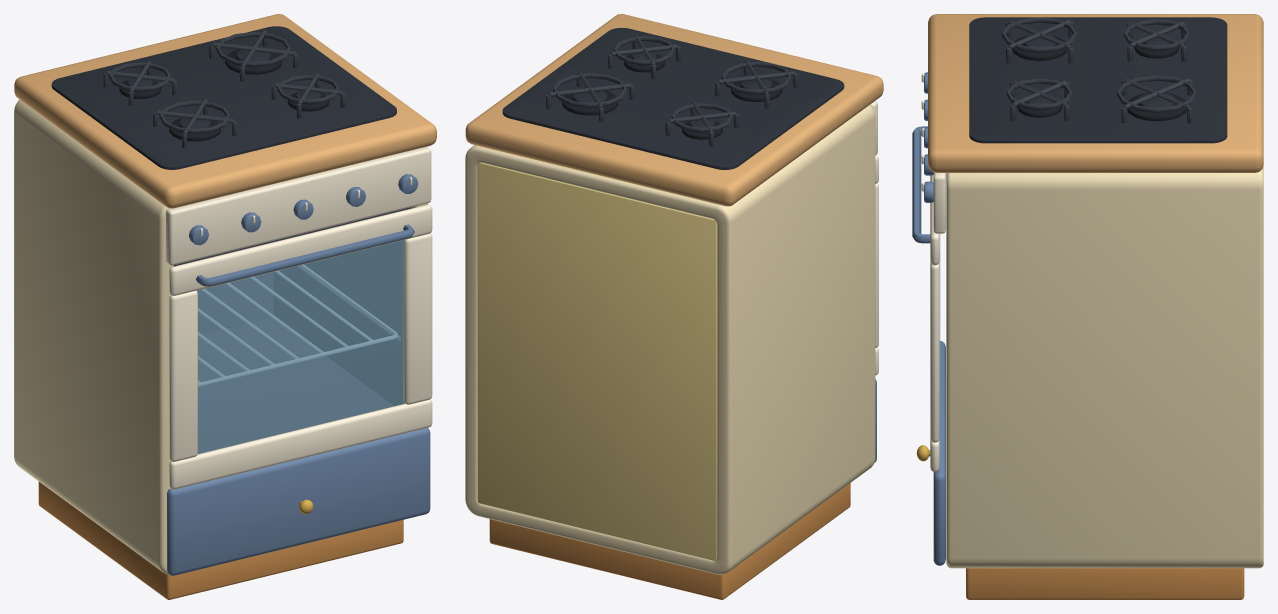
The model's file is fogao_modulo_creme_azul.glb.
3 renders of one model, left to right at view 1: azimuth 30°, elevation 25°; view 2: azimuth 150°, elevation 25°; view 3: azimuth 270°, elevation 25°, orthographic. The views are drawn at different scales.
Parts seen in each view (by area): view 1: fogao_modulo_creme_azul, porta_forno, gaveta_1; view 2: fogao_modulo_creme_azul, porta_forno; view 3: fogao_modulo_creme_azul, porta_forno, gaveta_1.
Part boxes in pixels (x1,y1,x2,y2): fogao_modulo_creme_azul: [14, 14, 436, 599]; porta_forno: [169, 204, 432, 489]; gaveta_1: [167, 428, 430, 575]; fogao_modulo_creme_azul: [465, 14, 883, 599]; porta_forno: [875, 155, 878, 375]; fogao_modulo_creme_azul: [921, 14, 1263, 599]; porta_forno: [912, 126, 940, 472]; gaveta_1: [916, 341, 945, 565].
Size of the model in its own units: 0.598 by 0.939 by 0.627.
Materials: 2 (1 with a texture image).
